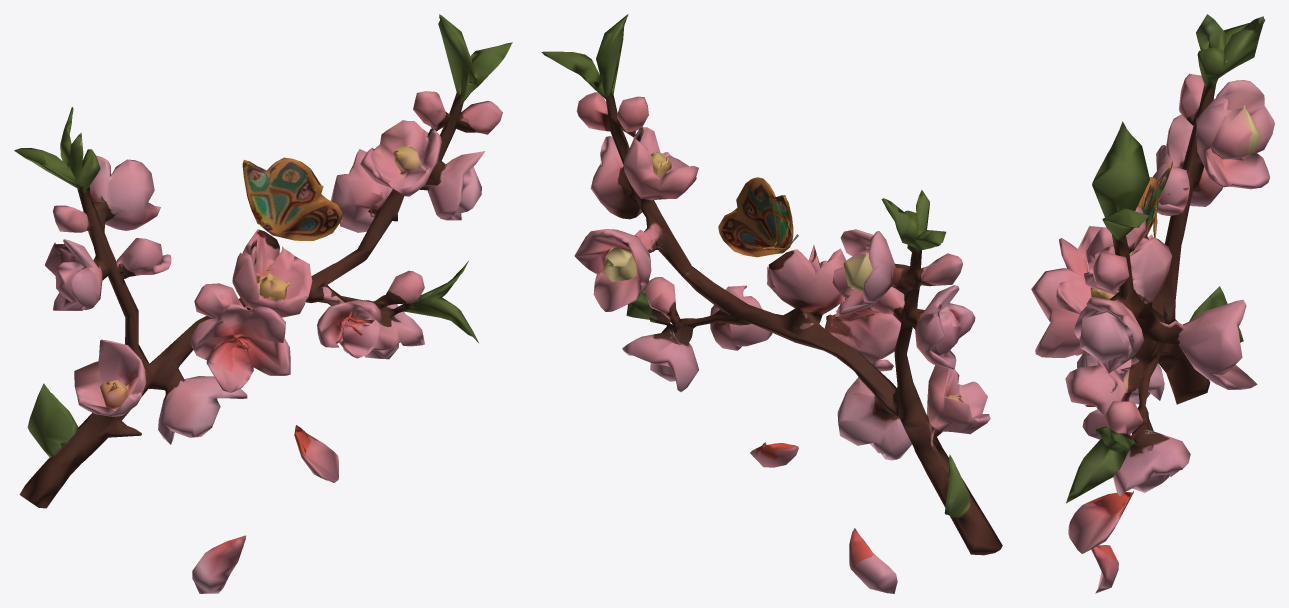
Rendered from ss_taohua.glb.
3 views of the same model, side by side, from view 1: azimuth 30°, elevation 25°; view 2: azimuth 150°, elevation 25°; view 3: azimuth 270°, elevation 25° (orthographic). The views are drawn at different scales.
Parts seen in each view (by area): view 1: tripo_node_c9286610-67fc-4a50-8983-989cd2da3a41; view 2: tripo_node_c9286610-67fc-4a50-8983-989cd2da3a41; view 3: tripo_node_c9286610-67fc-4a50-8983-989cd2da3a41.
Part boxes in pixels (left/top/right/bottom): tripo_node_c9286610-67fc-4a50-8983-989cd2da3a41: left=14, top=14, right=512, bottom=593; tripo_node_c9286610-67fc-4a50-8983-989cd2da3a41: left=541, top=14, right=1002, bottom=593; tripo_node_c9286610-67fc-4a50-8983-989cd2da3a41: left=1031, top=14, right=1274, bottom=593.
Size of the model in its own units: 0.9571 by 0.9999 by 0.3641.
1 material, 1 textured.
